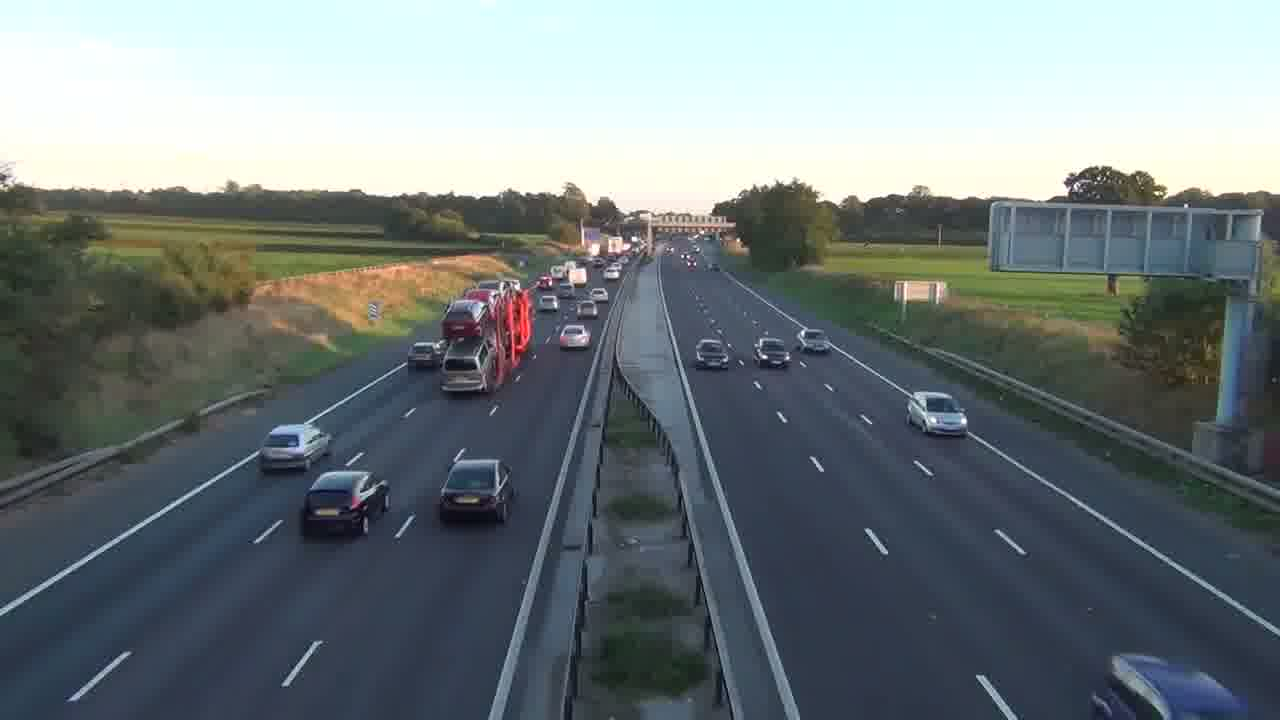car: (301, 470, 390, 537), (438, 456, 516, 524), (258, 422, 333, 472), (906, 390, 968, 438), (754, 336, 791, 369), (694, 338, 729, 370), (559, 322, 591, 350)
